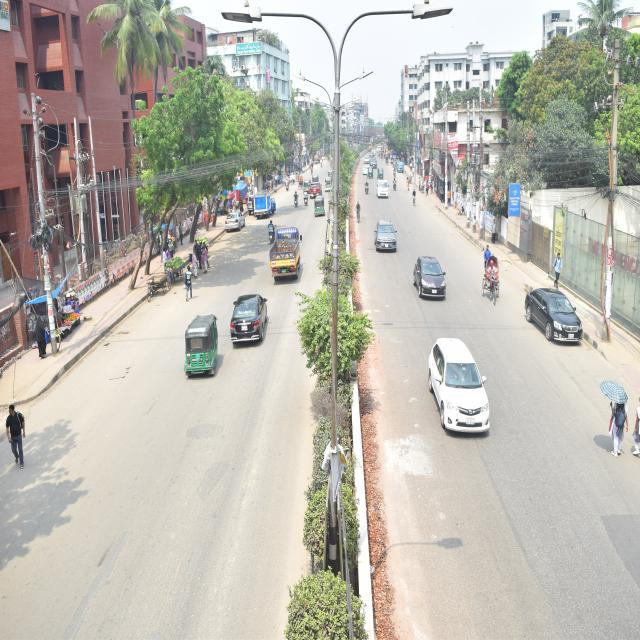car: (426, 330, 494, 460), (516, 270, 600, 365), (226, 291, 288, 353), (410, 246, 453, 312), (372, 213, 396, 264), (225, 207, 259, 237), (376, 176, 401, 212), (306, 174, 330, 200)
motorbike: (264, 204, 277, 250), (360, 176, 374, 205), (291, 186, 299, 210), (302, 187, 310, 208)
pickup-van: (270, 215, 312, 292), (251, 193, 284, 216)
